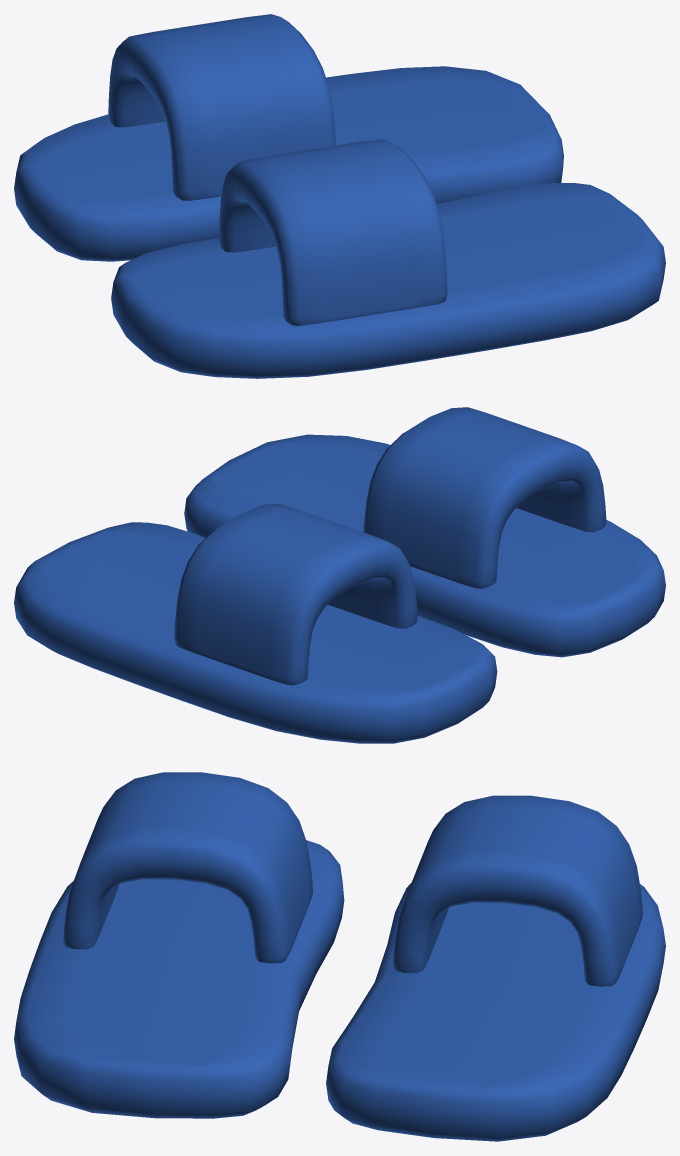
Rendered from slipper_LOD0.fbx.
3 renders of one model, top to bottom at view 1: azimuth 30°, elevation 25°; view 2: azimuth 150°, elevation 25°; view 3: azimuth 270°, elevation 25°, orthographic. The views are drawn at different scales.
Parts seen in each view (by area): view 1: slipper; view 2: slipper; view 3: slipper.
Part boxes in pixels (bbox=[...]): slipper: bbox=[14, 14, 665, 378]; slipper: bbox=[14, 407, 665, 743]; slipper: bbox=[14, 772, 665, 1141].
Bounding box in the file's own units: 893 × 254 × 907.
